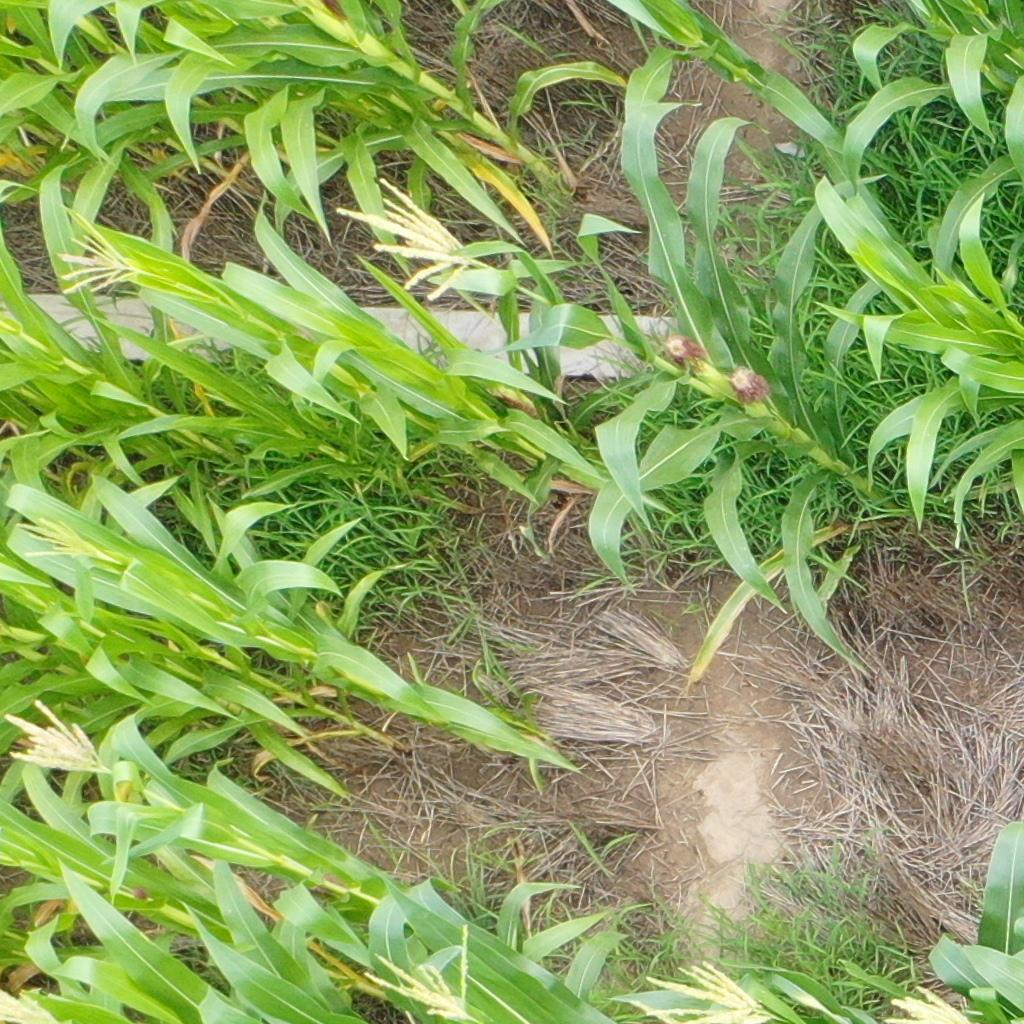Tassel: (337, 177, 481, 296), (359, 920, 477, 1024), (1, 697, 111, 781), (636, 959, 775, 1024), (57, 227, 147, 298), (15, 512, 106, 566), (880, 981, 981, 1024), (1, 986, 60, 1024)
